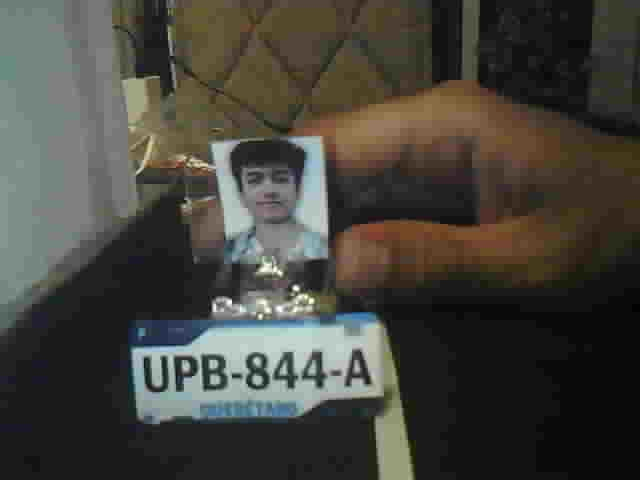PLACA: (126, 308, 387, 427)
ROSTRO: (222, 136, 329, 266)
